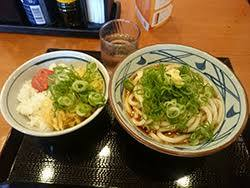bukkake: (116, 46, 246, 154)
